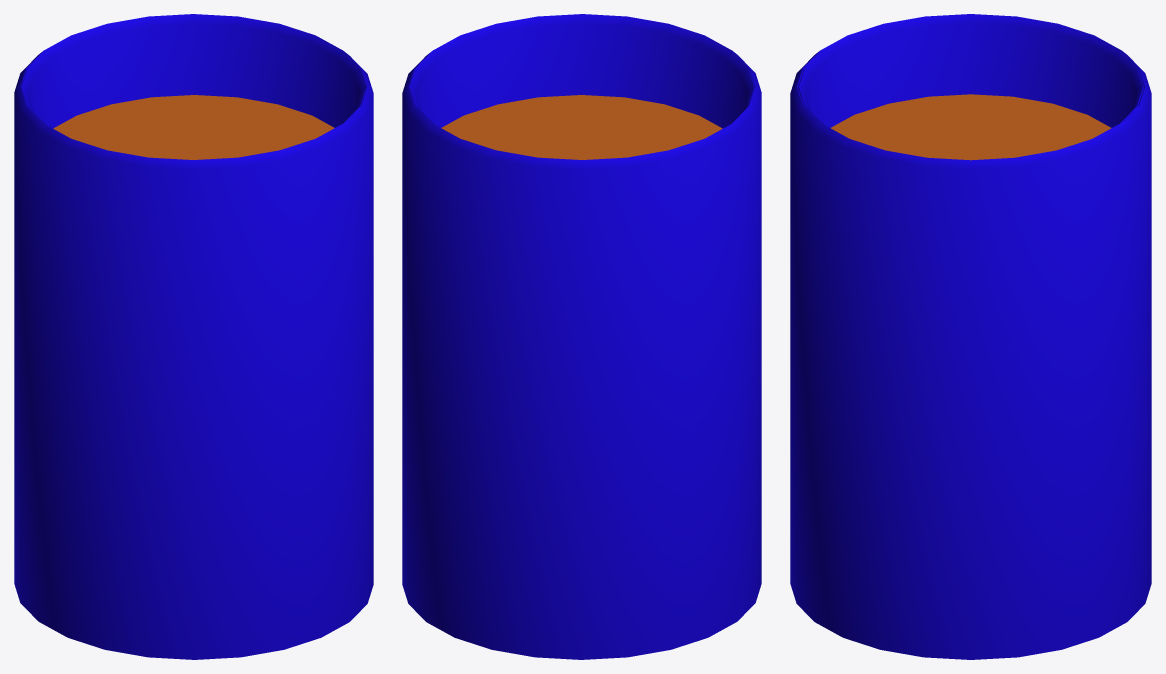
File: Glasses_OJ_01.fbx
3 views of the same model, side by side, from view 1: azimuth 30°, elevation 25°; view 2: azimuth 150°, elevation 25°; view 3: azimuth 270°, elevation 25° (orthographic).
Visible parts, largest first — view 1: Glass_OJ_NearEmpty, Glass_OJ_Half, Glass_OJ_Full; view 2: Glass_OJ_Half, Glass_OJ_NearEmpty, Glass_OJ_Full; view 3: Glass_OJ_NearEmpty, Glass_OJ_Half, Glass_OJ_Full.
Boxes of the visible parts, x1=… form: Glass_OJ_NearEmpty: x1=21, y1=14, x2=373, y2=659; Glass_OJ_Half: x1=14, y1=14, x2=366, y2=620; Glass_OJ_Full: x1=20, y1=14, x2=366, y2=621; Glass_OJ_Half: x1=402, y1=14, x2=754, y2=659; Glass_OJ_NearEmpty: x1=409, y1=14, x2=761, y2=621; Glass_OJ_Full: x1=408, y1=51, x2=754, y2=621; Glass_OJ_NearEmpty: x1=790, y1=14, x2=1143, y2=659; Glass_OJ_Half: x1=799, y1=14, x2=1151, y2=659; Glass_OJ_Full: x1=798, y1=14, x2=1144, y2=659.
Size of the model in its own units: 9.29 by 14.19 by 9.34.
